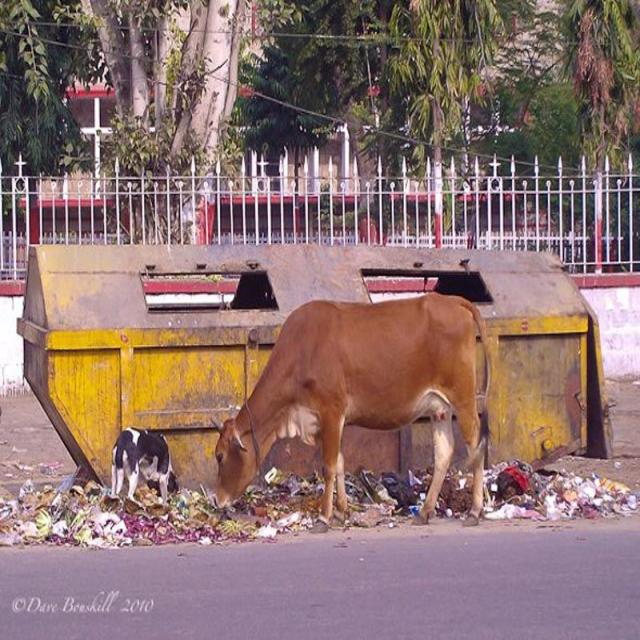garbage: (0, 442, 640, 553)
